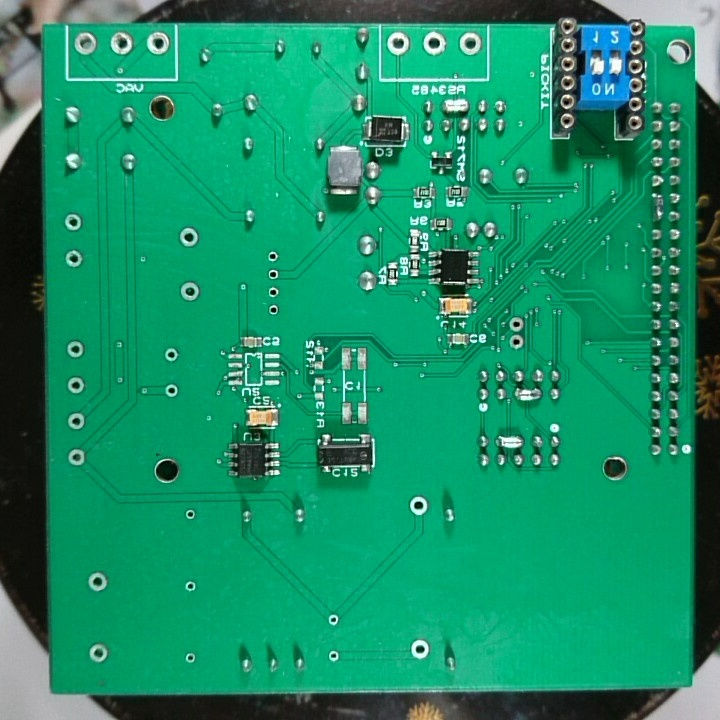F: (419, 29, 448, 58), (108, 29, 134, 57), (73, 29, 99, 57), (406, 492, 432, 520), (385, 32, 411, 58), (145, 30, 171, 56), (458, 31, 483, 58), (87, 641, 112, 667), (85, 569, 109, 595), (408, 635, 432, 661), (59, 210, 84, 234), (61, 247, 84, 272), (178, 280, 202, 303), (178, 226, 202, 249), (66, 409, 88, 434), (65, 446, 86, 468), (65, 338, 85, 361), (65, 372, 85, 395), (507, 333, 528, 352), (162, 380, 181, 400), (325, 646, 343, 666), (162, 345, 180, 365), (507, 315, 526, 333), (266, 300, 282, 320), (265, 248, 283, 265), (182, 578, 199, 594), (325, 612, 341, 629), (265, 266, 282, 282), (265, 285, 282, 300), (182, 507, 197, 523), (184, 651, 198, 666)
P: (494, 432, 526, 452), (648, 189, 666, 223), (439, 97, 471, 115), (512, 386, 543, 404)
